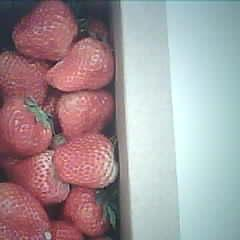straw-ripe: (12, 0, 79, 60), (54, 133, 117, 189), (46, 39, 112, 91), (0, 96, 52, 156)
